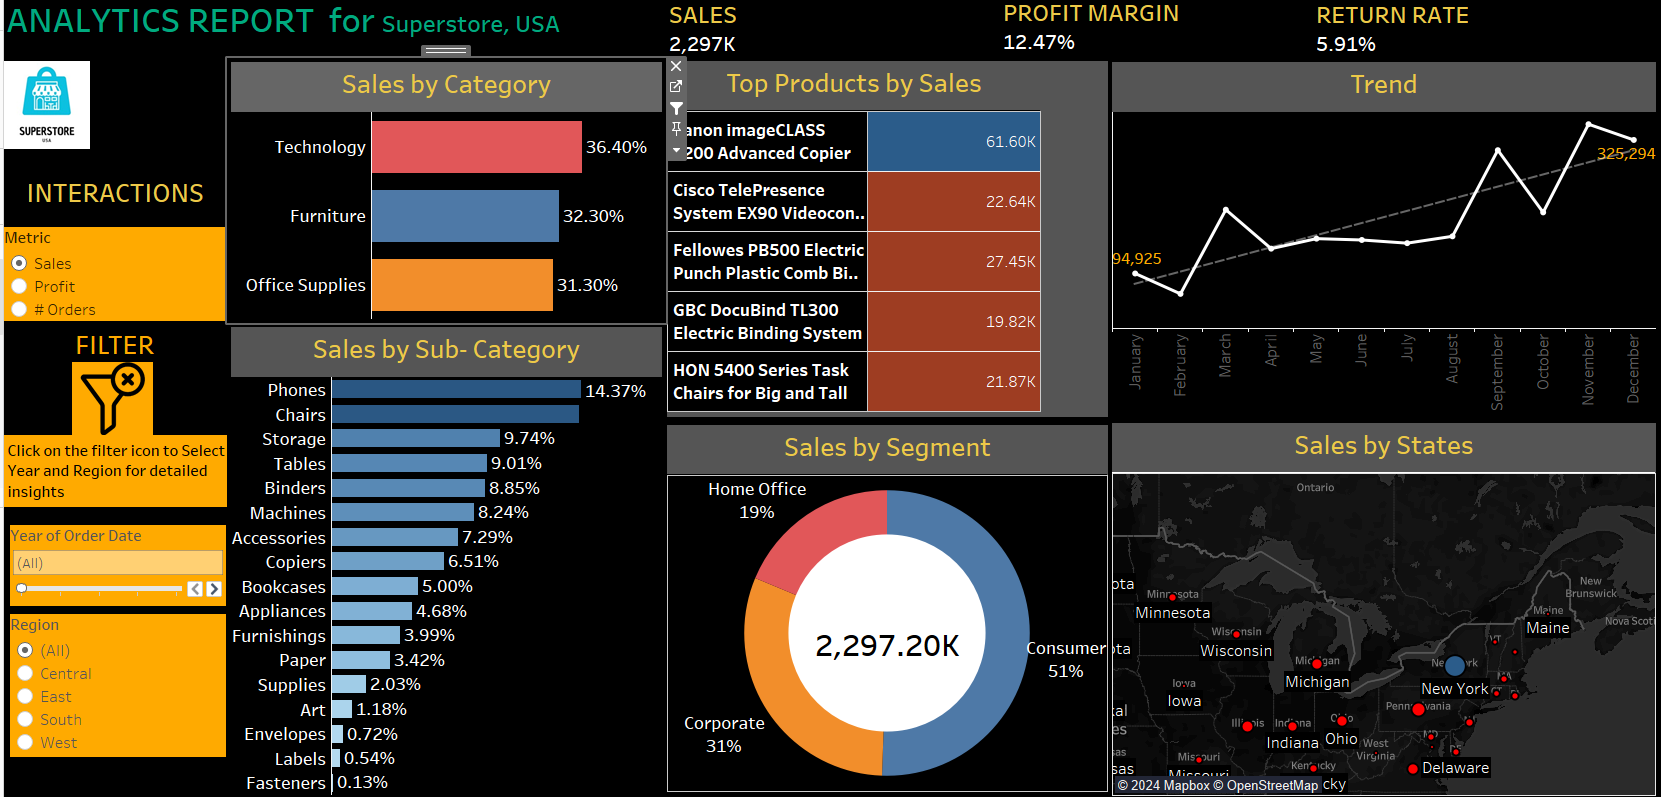

The dashboard page shown, as its layout file describes it:
{"tool":"tableau","page":{"name":"Assignment- 7 Dashboard","canvas":[1000,1000],"units":"permille","ordinal":0},"visuals":[{"type":"worksheet","title":"Total Sales","mark":"Automatic","box":[398.9,0,201.6,74.9]},{"type":"worksheet","title":"Return Rate","mark":"Automatic","box":[789.4,0,210.6,74.9]},{"type":"worksheet","title":"Top 5","mark":"Square","rows":["Product Name"],"box":[397.7,73.7,271.1,454.4]},{"type":"worksheet","title":"Category","mark":"Automatic","rows":["Category"],"cols":["Calculation_3089187931289341980"],"box":[134.6,74.9,264.9,330.8]},{"type":"worksheet","title":"Trend","mark":"Automatic","rows":["Calculation_3089187931289341980"],"cols":["Order Date"],"box":[666.3,74.9,333.1,450.7]},{"type":"parameter","param":"[Parameters].[Parameter 2]","box":[0,285.9,137.5,117.4]},{"type":"worksheet","title":"Sub-Category","mark":"Automatic","rows":["Sub-Category"],"cols":["Calculation_3089187931289341980"],"box":[134.6,405.7,264.9,594.2]},{"type":"dashboard-object","box":[41.2,454.4,48.9,91.1]},{"type":"worksheet","title":"States (Map)","mark":"Automatic","box":[666.3,525.6,333.1,475.7]},{"type":"worksheet","title":"Donut chart","mark":"Pie","rows":["Calculation_3089187931321978912","Calculation_3089187931322019874"],"box":[397.7,528.1,271.1,468.2]},{"type":"text","box":[0,545.6,137.5,89.9]},{"type":"filter","title":"Category","param":"[federated.1eykxp60l1a540109l57d17ok95t].[yr:Order Date:ok]","box":[1.4,652.9,135.2,111.1]},{"type":"filter","title":"Category","param":"[federated.1eykxp60l1a540109l57d17ok95t].[none:Region:nk]","box":[1.4,764,135.2,188.5]}]}

Visuals, with their boxes on the dashboard's canvas, which has no fixed pixel size, in thousandths of its width and height (x1, y1, x2, y2). These are canvas units, not pixel positions in the 1661x797 screenshot, which may show the page scaled, cropped or inside an application window:
"Total Sales" worksheet: 399 0 600 75
"Return Rate" worksheet: 789 0 1000 75
"Top 5" worksheet (Square marks): 398 74 669 528
"Category" worksheet: 135 75 400 406
"Trend" worksheet: 666 75 999 526
parameter: 0 286 138 403
"Sub-Category" worksheet: 135 406 400 1000
dashboard-object: 41 454 90 546
"States (Map)" worksheet: 666 526 999 1001
"Donut chart" worksheet (Pie marks): 398 528 669 996
text: 0 546 138 636
"Category" filter: 1 653 137 764
"Category" filter: 1 764 137 952
